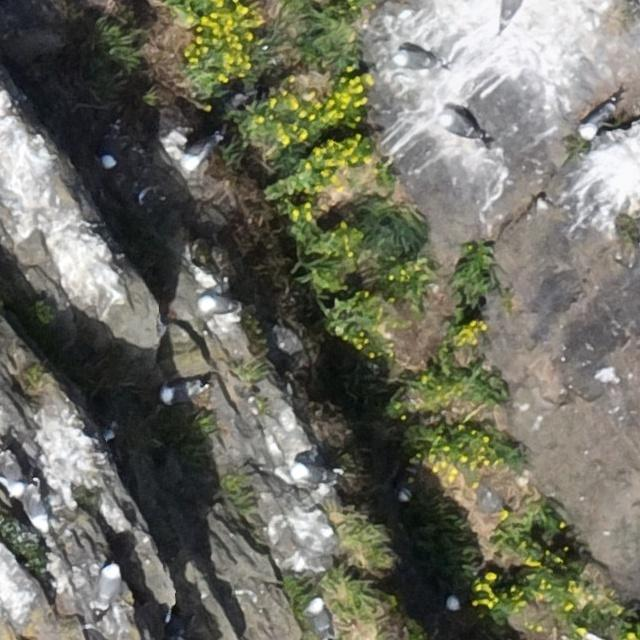umineko: (1, 451, 24, 498), (29, 491, 50, 533), (442, 115, 478, 138), (582, 106, 609, 135), (395, 50, 434, 68), (294, 465, 332, 483), (99, 566, 118, 601), (162, 384, 195, 404), (308, 602, 328, 635), (203, 296, 235, 312), (99, 144, 116, 168), (442, 592, 462, 610)
